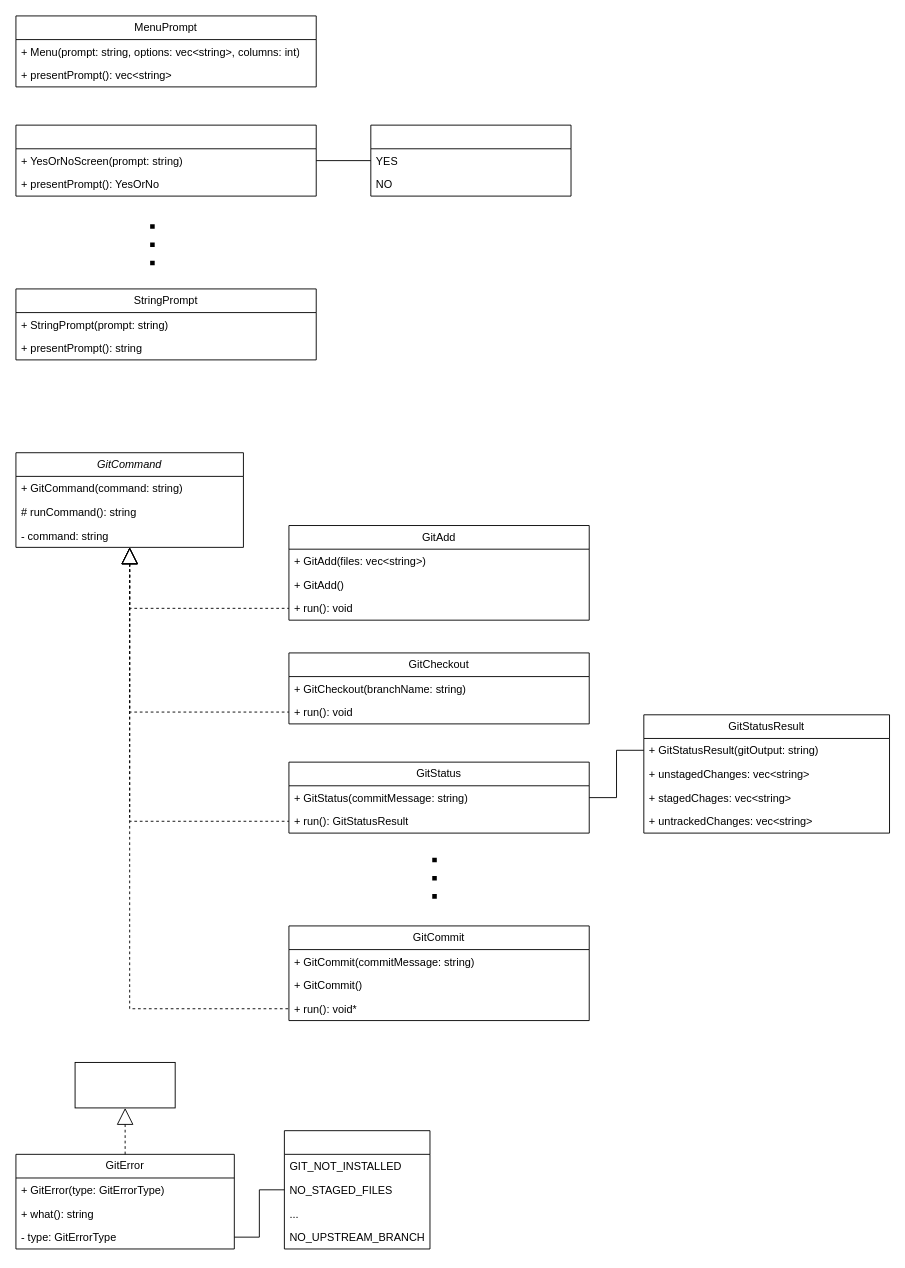
Image size: 905x1268. Some labels were removed from this diagram. The shapes that lost their labels are listed below. From the top down, each one's box as (x1, y1, x2, y2) in pixels, then its label:
(15, 124, 316, 196): YesOrNoPrompt
(370, 124, 571, 196): Enum: YesOrNo
(74, 1062, 175, 1108): std::exception
(283, 1130, 430, 1249): Enum: GitErrorType
